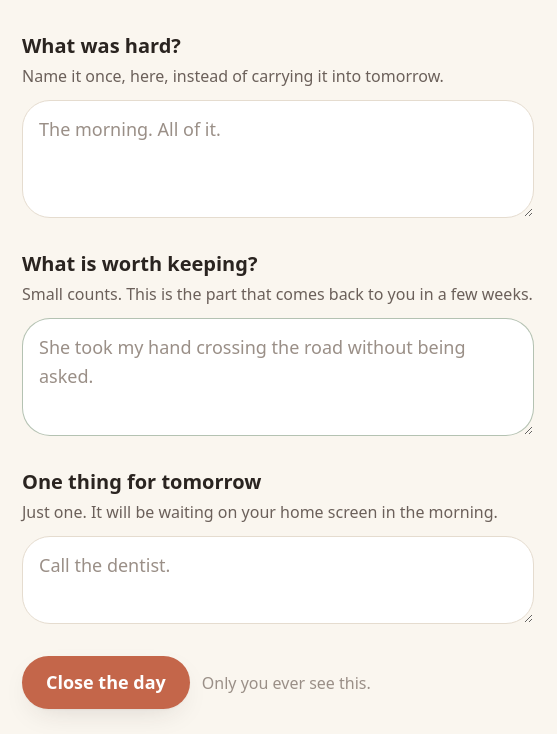
evening close › saves what was kept and answers with the kept ending
(page scrolled)
Type "She read to her brother." into the text box labelled "What is worth keeping?" at (278, 377), box [22,318,534,436]
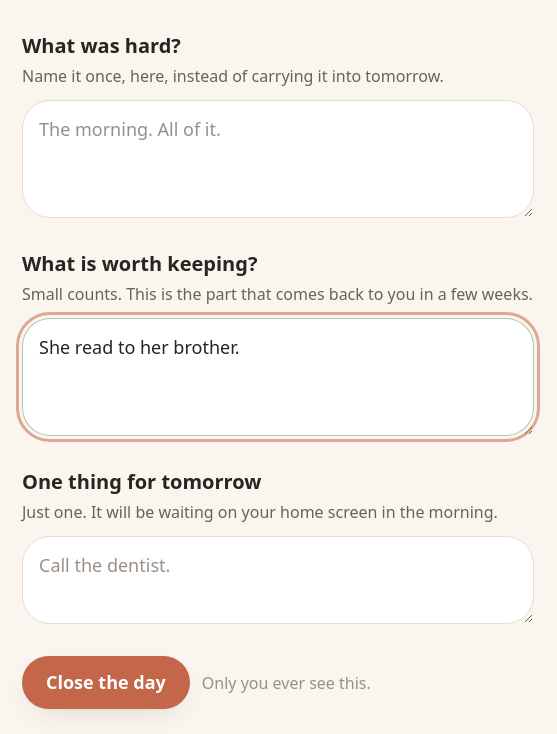
Click the button "Close the day" at (106, 683), box [22,656,190,709]
(page scrolled)
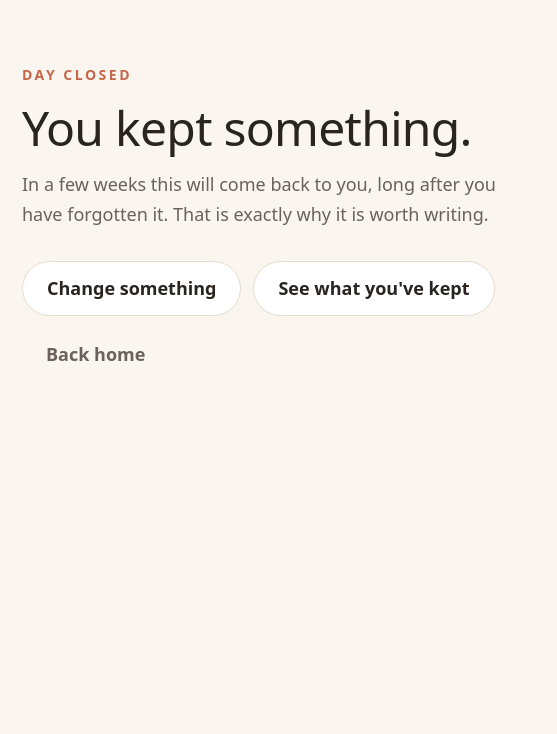
Now the heading "You kept something." is shown, box [22,100,534,154]
